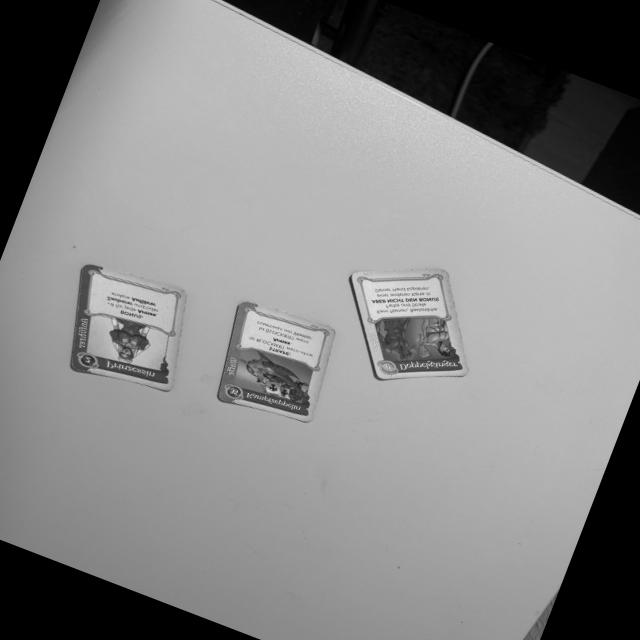Doppelganger: (349, 270, 473, 383)
Princess: (69, 265, 186, 392)
War Dirigable: (216, 297, 340, 426)
